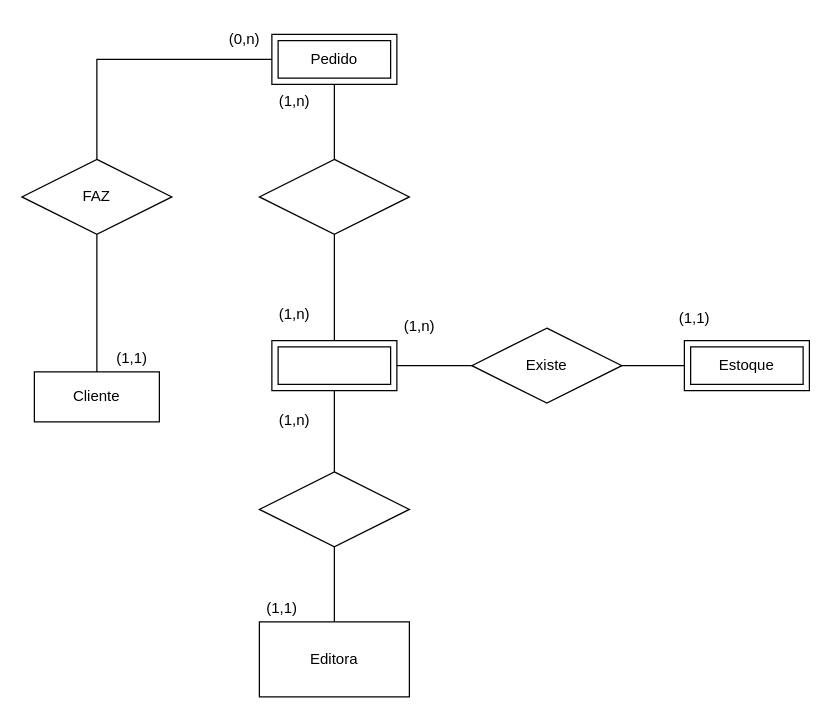
The diagram is 831 pixels wide and 719 high, and some of its shapes have lost their labels. The shapes that lost their labels are listed below. From the top down, each one's centre as x and y in pixels, then its label:
the point at 333,196: Contém
the point at 334,365: Livro
the point at 333,509: Pertence a
